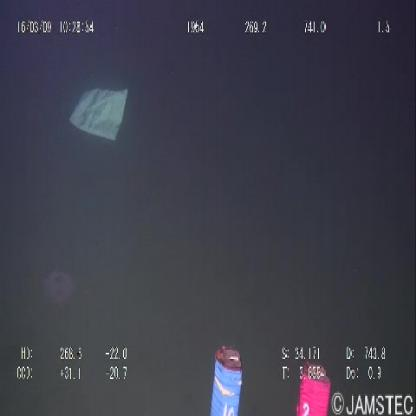Rác: (66, 80, 131, 148)
